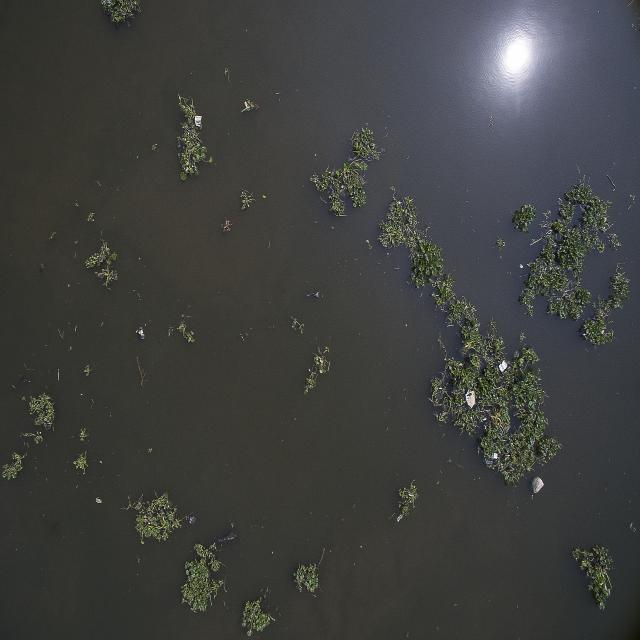Plastic: (530, 474, 543, 493), (464, 390, 476, 407), (497, 359, 508, 374), (194, 113, 203, 128), (139, 324, 145, 338)
